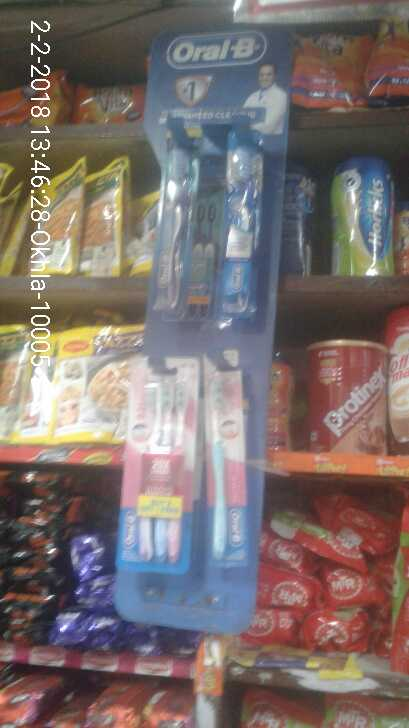oralb: (133, 365, 187, 571), (198, 362, 247, 571), (218, 142, 267, 333), (157, 134, 193, 317)
